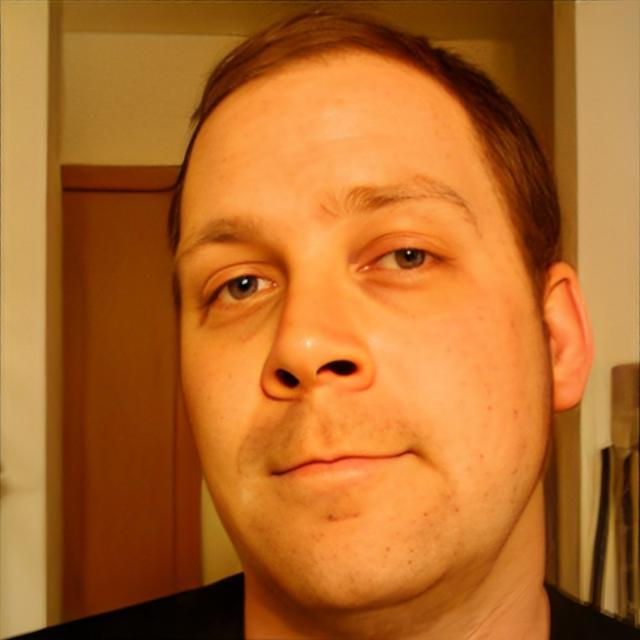content: (173, 43, 552, 618)
